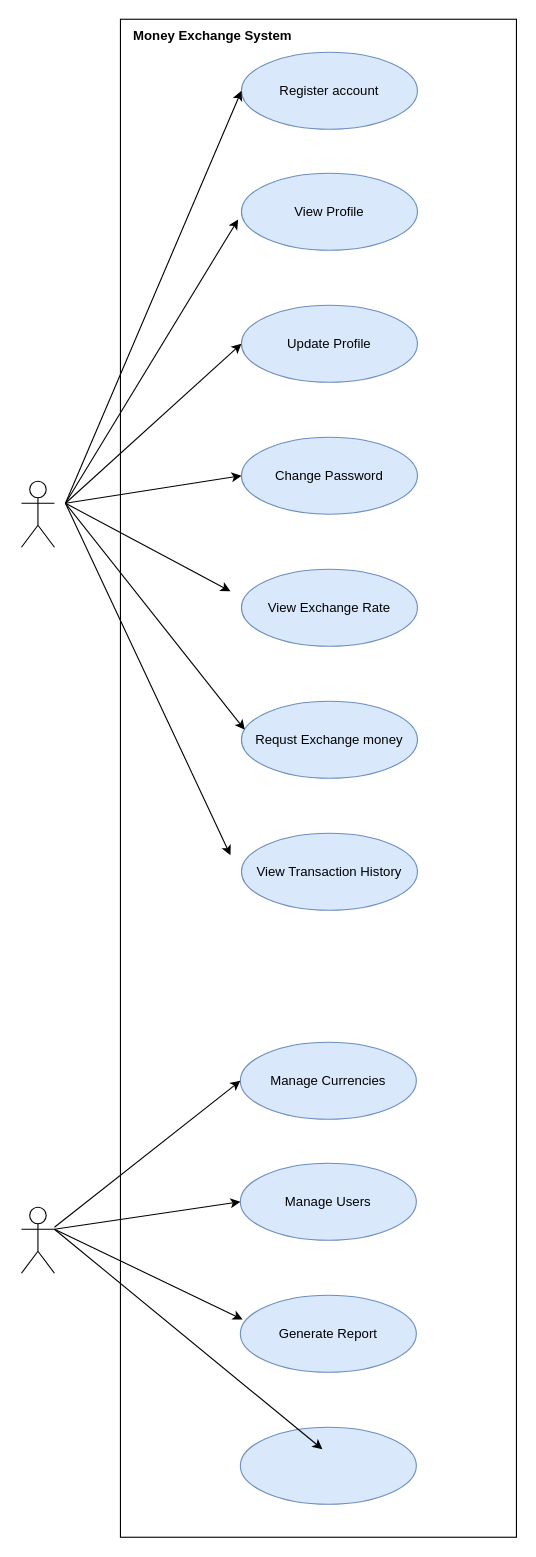
The diagram is 536 pixels wide and 1557 high, and some of its shapes have lost their labels. Here are the shapes that lost their labels. From the top down, the centre of each, then its label:
At point 37,513: "User".
At point 37,1239: "Admin".
At point 327,1465: "Approve Exchange Request".
